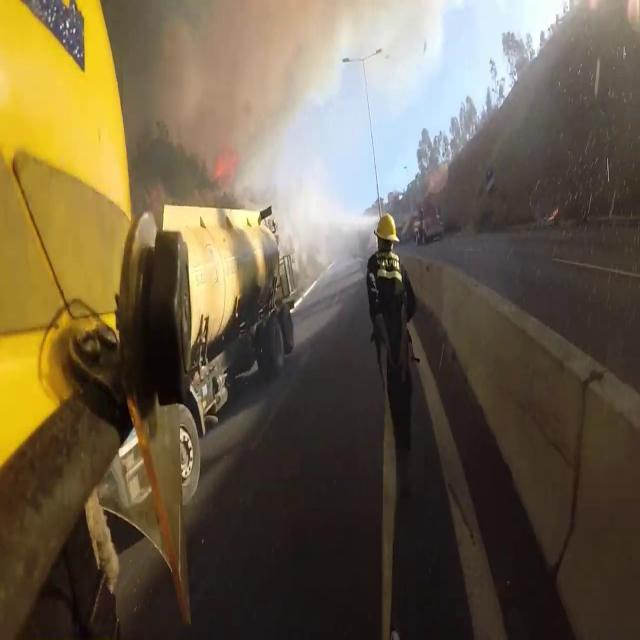Smoke: (116, 0, 332, 195)
